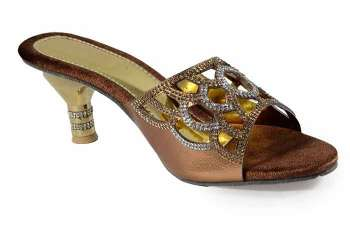Footwear: (16, 29, 340, 189)
